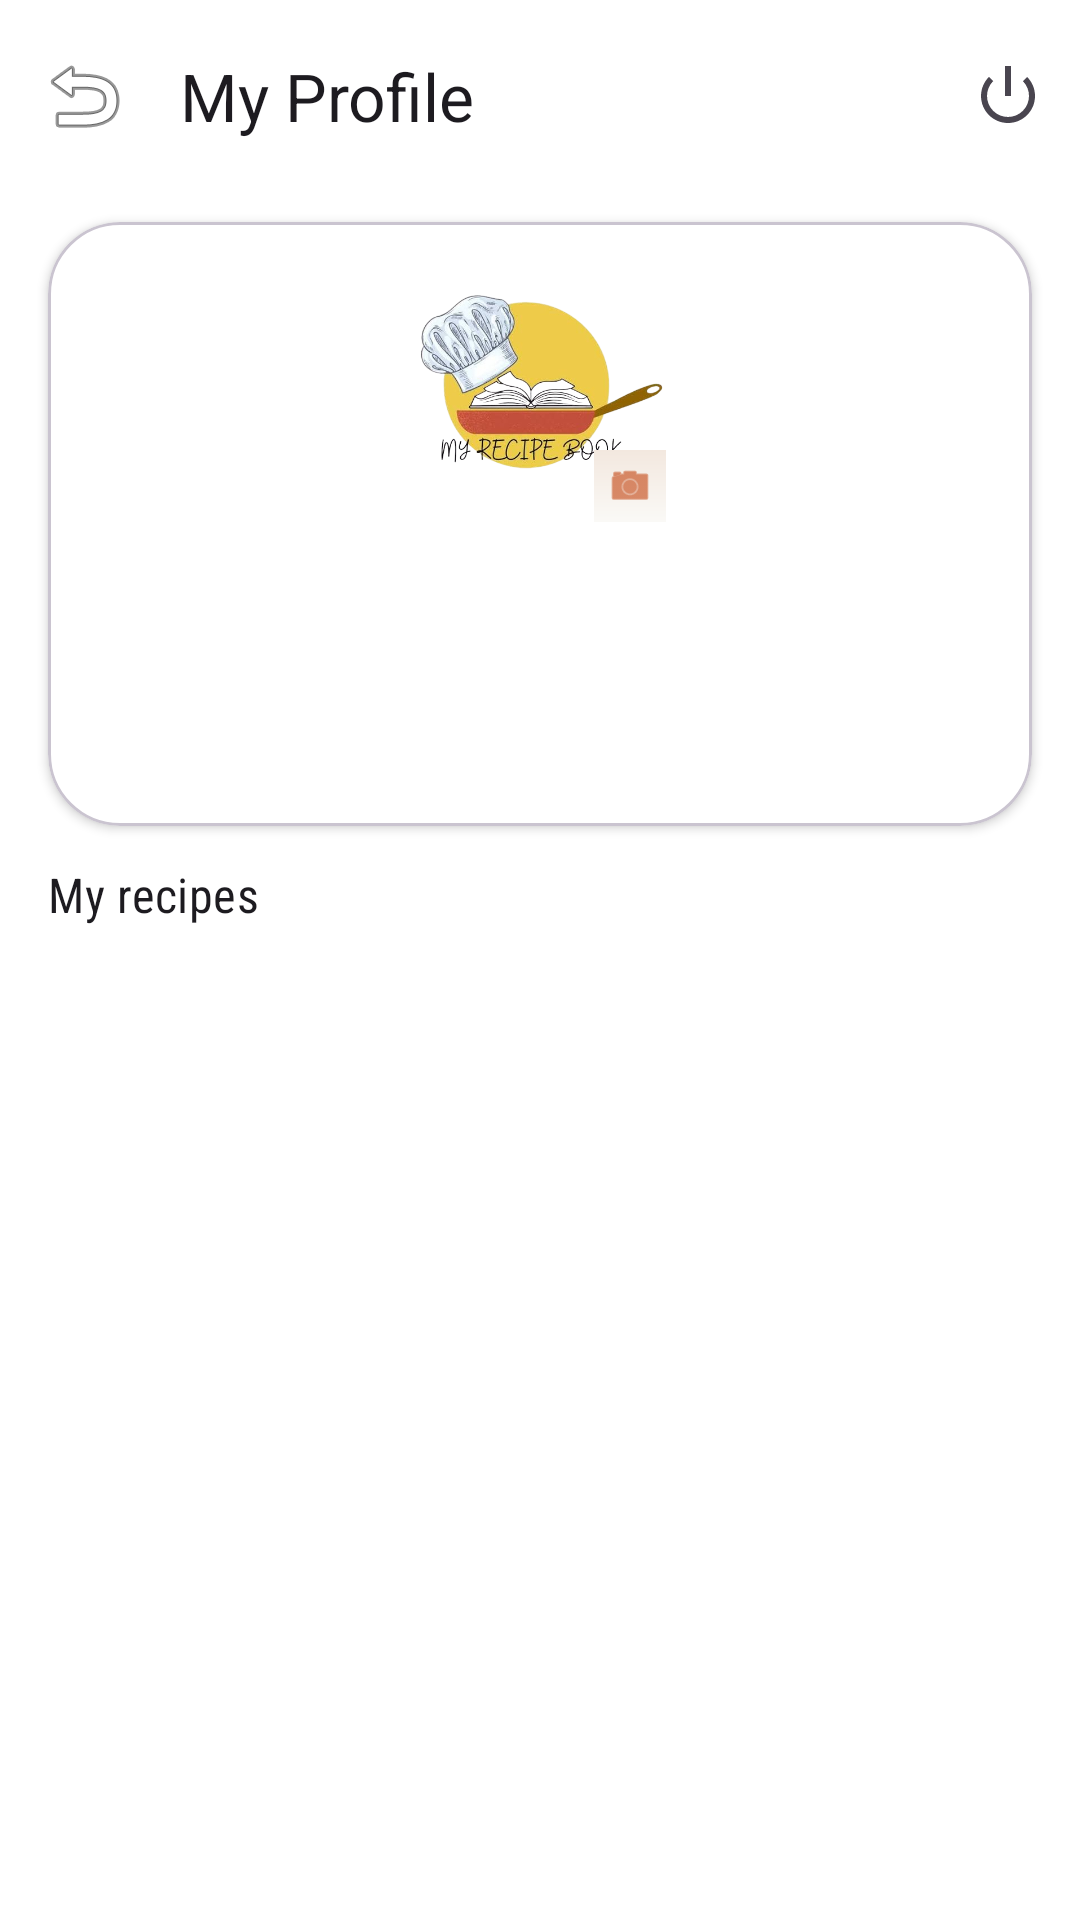

Where icons sit on this 1080px×1920px app screen, as (x1, y1, x2, y2):
camera: (594, 450, 666, 500)
